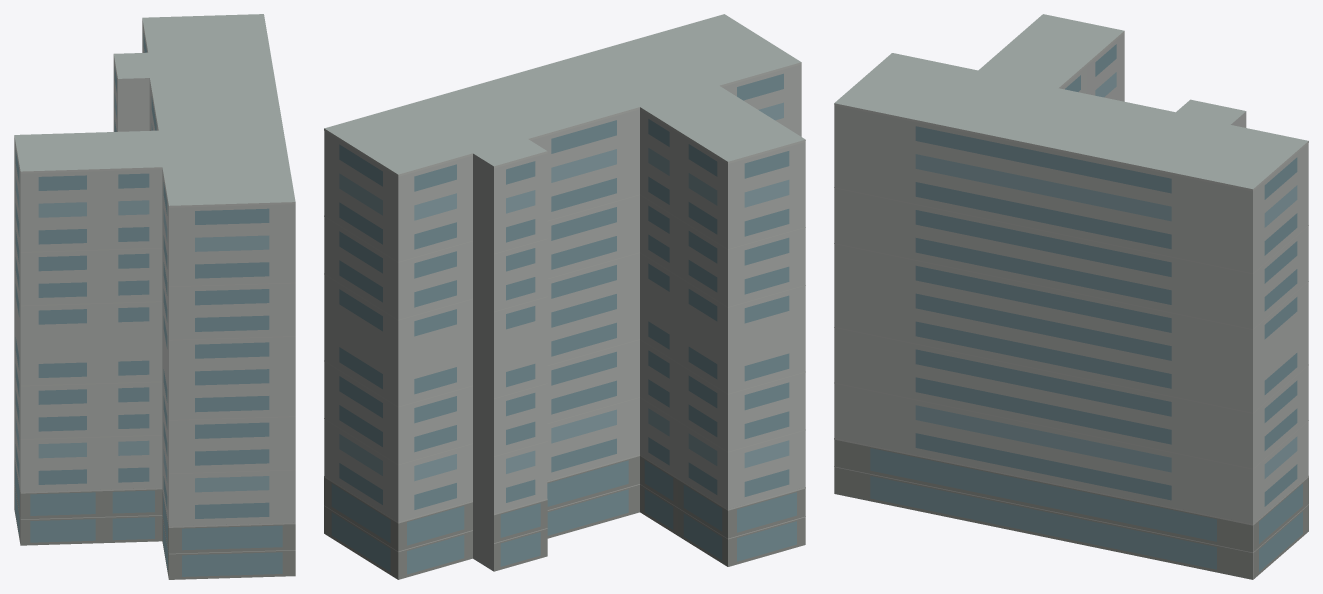
File: residential-8f119921-7941-457b-9d89-8dd00eaa6e19.glb
3 renders of one model, left to right at view 1: azimuth 30°, elevation 25°; view 2: azimuth 150°, elevation 25°; view 3: azimuth 270°, elevation 25°, orthographic. The views are drawn at different scales.
Parts seen in each view (by area): view 1: residential-8f119921-7941-457b-9d89-8dd00eaa6e19.tmp; view 2: residential-8f119921-7941-457b-9d89-8dd00eaa6e19.tmp; view 3: residential-8f119921-7941-457b-9d89-8dd00eaa6e19.tmp.
Boxes of the visible parts, box(x1,y1,x2,y2) form: residential-8f119921-7941-457b-9d89-8dd00eaa6e19.tmp: box(14, 14, 295, 579); residential-8f119921-7941-457b-9d89-8dd00eaa6e19.tmp: box(324, 14, 805, 579); residential-8f119921-7941-457b-9d89-8dd00eaa6e19.tmp: box(834, 14, 1308, 579).
Size of the model in its own units: 41.4 by 43 by 47.37.
